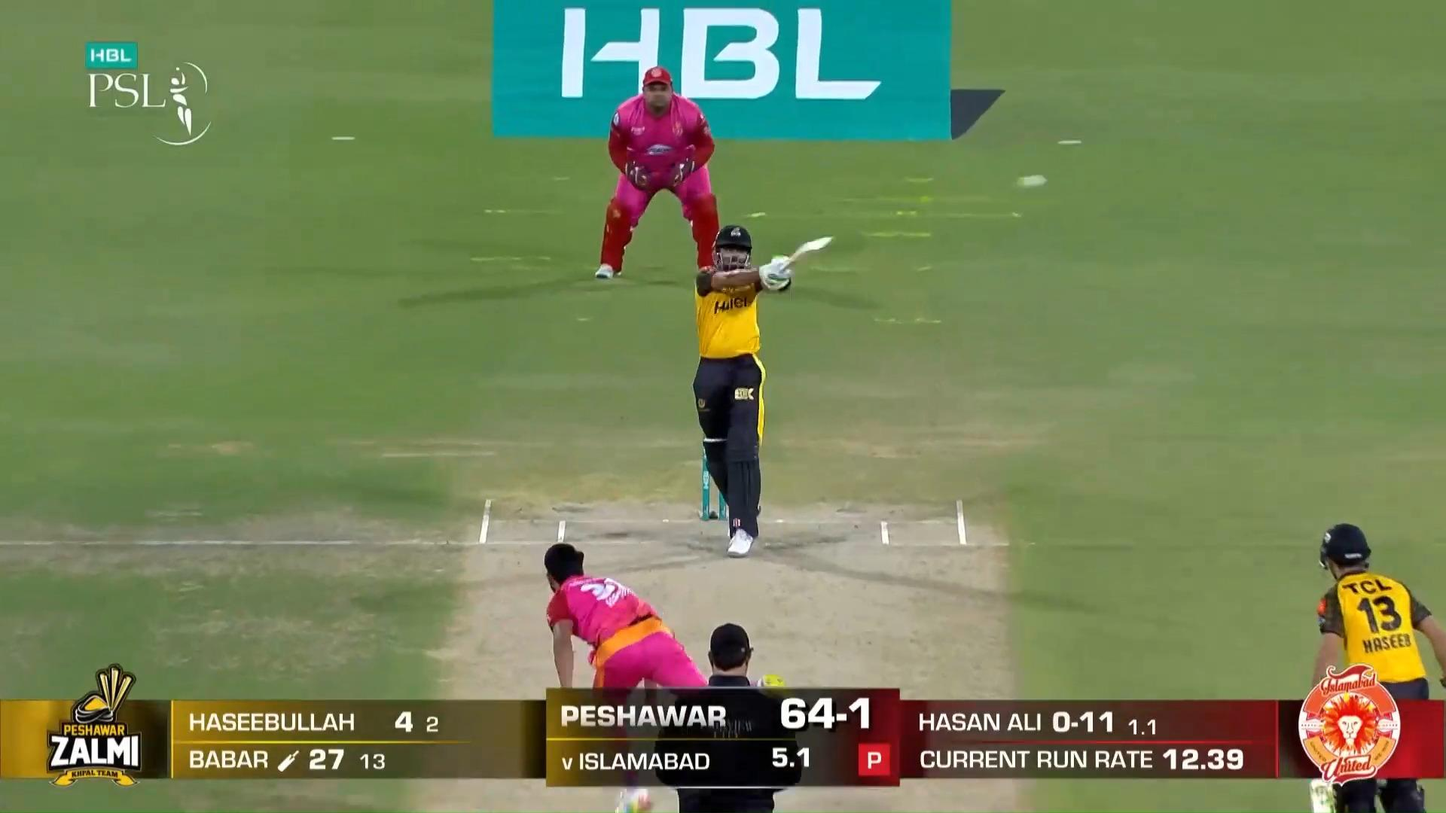batsman: (692, 225, 833, 558)
